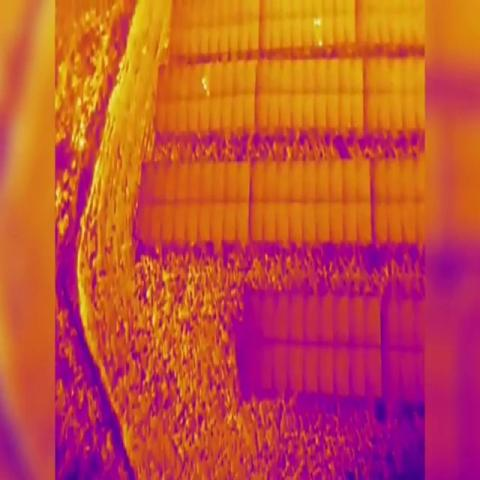fault: (200, 75, 212, 101), (311, 16, 324, 32), (318, 38, 325, 49)
